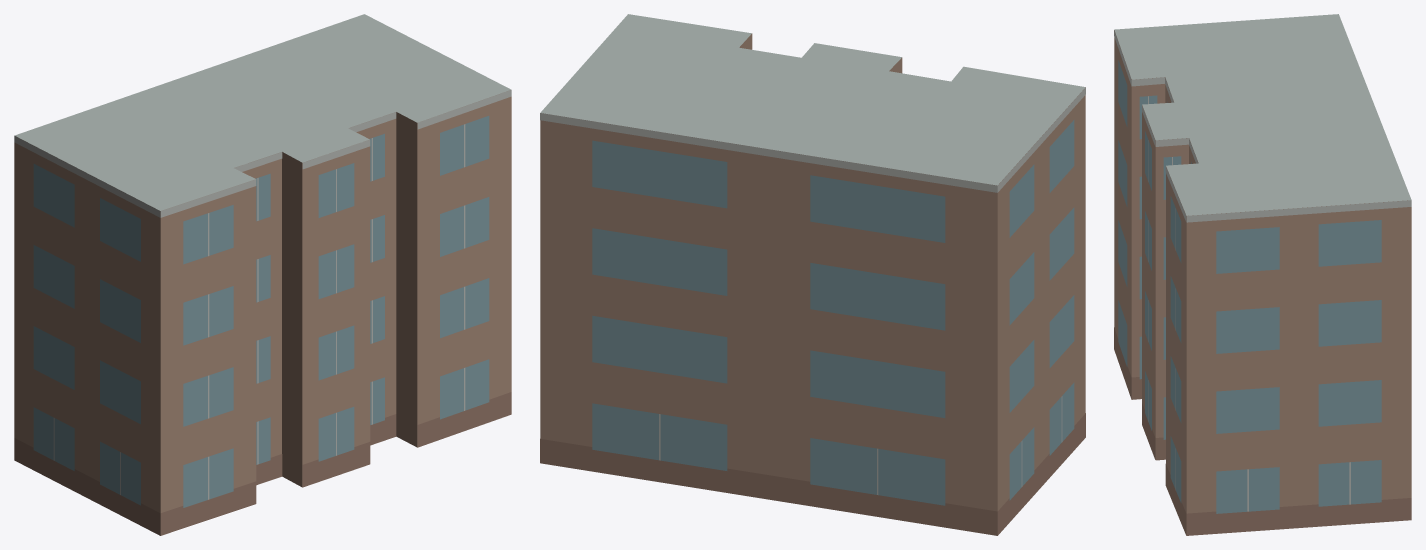
File: survey-upis-32608070.glb
The picture shows the model from 3 angles, left to right: view 1: azimuth 30°, elevation 25°; view 2: azimuth 150°, elevation 25°; view 3: azimuth 270°, elevation 25°; orthographic projection. The views are drawn at different scales.
Parts seen in each view (by area): view 1: survey-upis-32608070.tmp; view 2: survey-upis-32608070.tmp; view 3: survey-upis-32608070.tmp.
Boxes of the visible parts, bbox=[...] form: survey-upis-32608070.tmp: bbox=[14, 14, 511, 535]; survey-upis-32608070.tmp: bbox=[540, 14, 1085, 535]; survey-upis-32608070.tmp: bbox=[1114, 14, 1411, 535].
Bounding box in the file's own units: 15.7 × 11.6 × 9.78.
